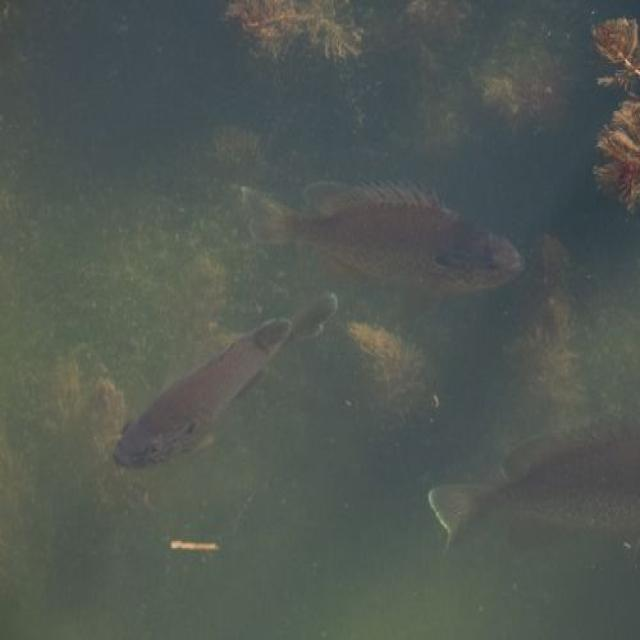Gunes Levregi: (235, 171, 538, 312)
